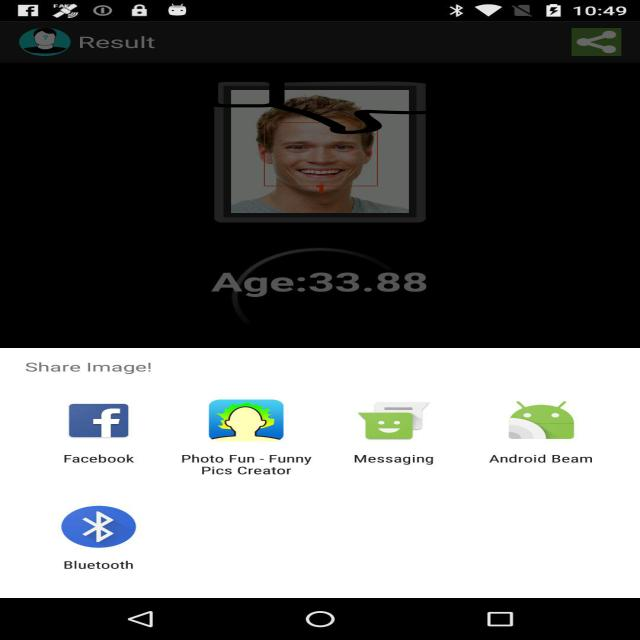obstruction: (199, 78, 470, 134)
